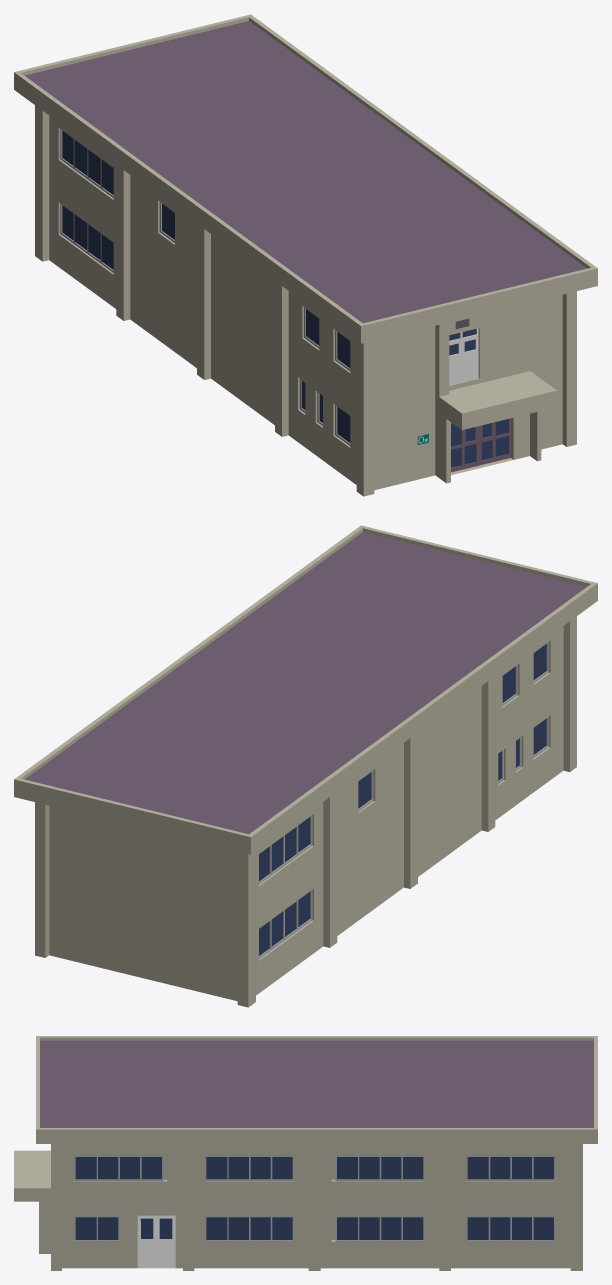
The model's file is Building_O.fbx.
3 views of the same model, one above another, from view 1: azimuth 30°, elevation 25°; view 2: azimuth 150°, elevation 25°; view 3: azimuth 270°, elevation 25° (orthographic). The views are drawn at different scales.
Parts seen in each view (by area): view 1: Building_O; view 2: Building_O; view 3: Building_O.
Part boxes in pixels (<box>): Building_O: <box>14,14,597,496</box>; Building_O: <box>14,525,597,1007</box>; Building_O: <box>14,1036,597,1270</box>.
Bounding box in the file's own units: 11.19 × 8.13 × 29.5.
